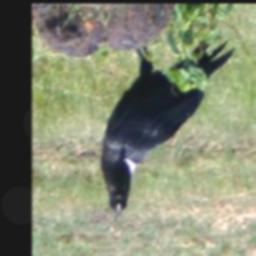Crow: (98, 34, 237, 216)
